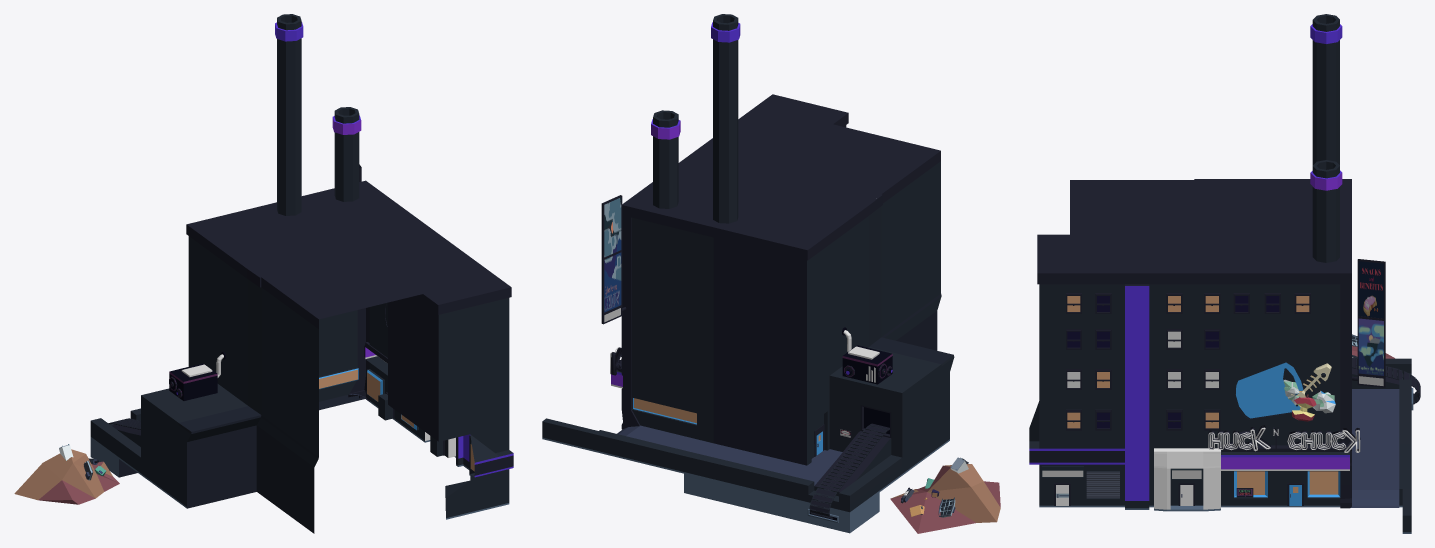
The model's file is HuckNChuck.fbx.
3 views of the same model, side by side, from view 1: azimuth 30°, elevation 25°; view 2: azimuth 150°, elevation 25°; view 3: azimuth 270°, elevation 25° (orthographic). The views are drawn at different scales.
Parts seen in each view (by area): view 1: Cube.1224, Plane.028, Cube.838; view 2: Cube.1224, Plane.028, Cube.1232, Cube.1226, Cube.838; view 3: Cube.1224, Cube.1232, Text.053, Text.050, Text.051, Cube.1225, Cube.1226, Cube.1235.
Boxes of the visible parts, x1,y1,x2,y2 form: Cube.1224: (90,14,513,533); Plane.028: (14,444,119,504); Cube.838: (169,351,225,400); Cube.1224: (542,14,954,533); Plane.028: (890,457,1000,533); Cube.1232: (601,195,626,324); Cube.1226: (809,423,889,518); Cube.838: (842,327,892,384); Cube.1224: (1029,14,1413,533); Cube.1232: (1352,259,1385,387); Text.053: (1234,362,1303,419); Text.050: (1208,427,1360,452); Text.051: (1208,425,1360,451); Cube.1225: (1221,433,1345,451); Cube.1226: (1352,357,1420,404); Cube.1235: (1041,466,1083,477).
Size of the model in its own units: 3676 by 3704 by 2844.
